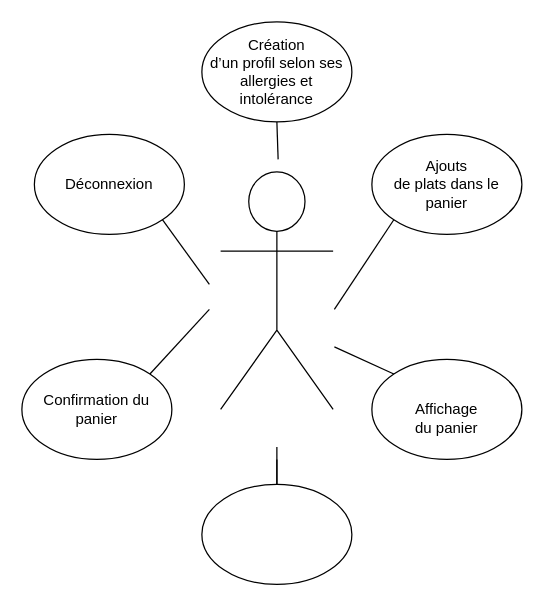
Some shapes in this 544 by 606 pixel diagram are drawn without their labels. The box of each missing label's shape, as (x1, y1, x2, y2) in pixels:
Consultation d’une page d’accueil et de présentation du restaurant: (201, 483, 352, 584)
User: (219, 171, 333, 409)
